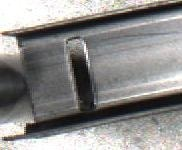40ngpress: (0, 13, 129, 140), (166, 9, 182, 138)
